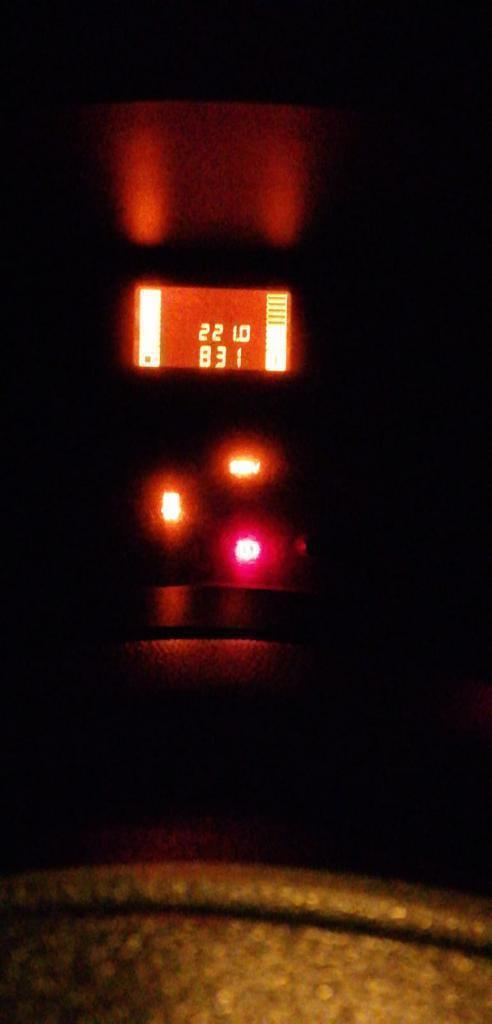,: (236, 337, 239, 342)
0: (239, 324, 250, 342)
1: (236, 346, 242, 368), (232, 324, 237, 342)
2: (211, 323, 223, 341), (198, 323, 209, 341)
3: (214, 345, 226, 368)
8: (198, 344, 211, 367)
odometer: (131, 283, 295, 375)
